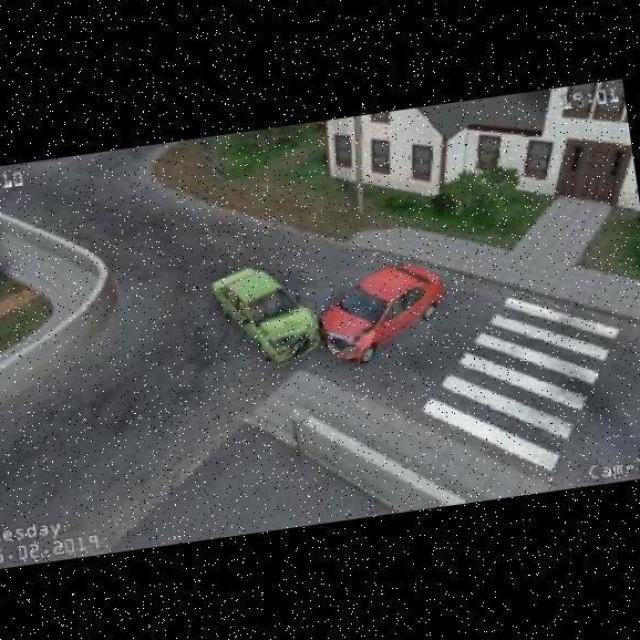accident: (203, 236, 437, 380)
